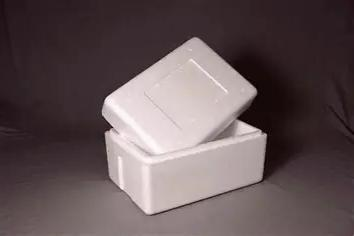ROAD_OBSTACLE: (102, 35, 266, 215)
